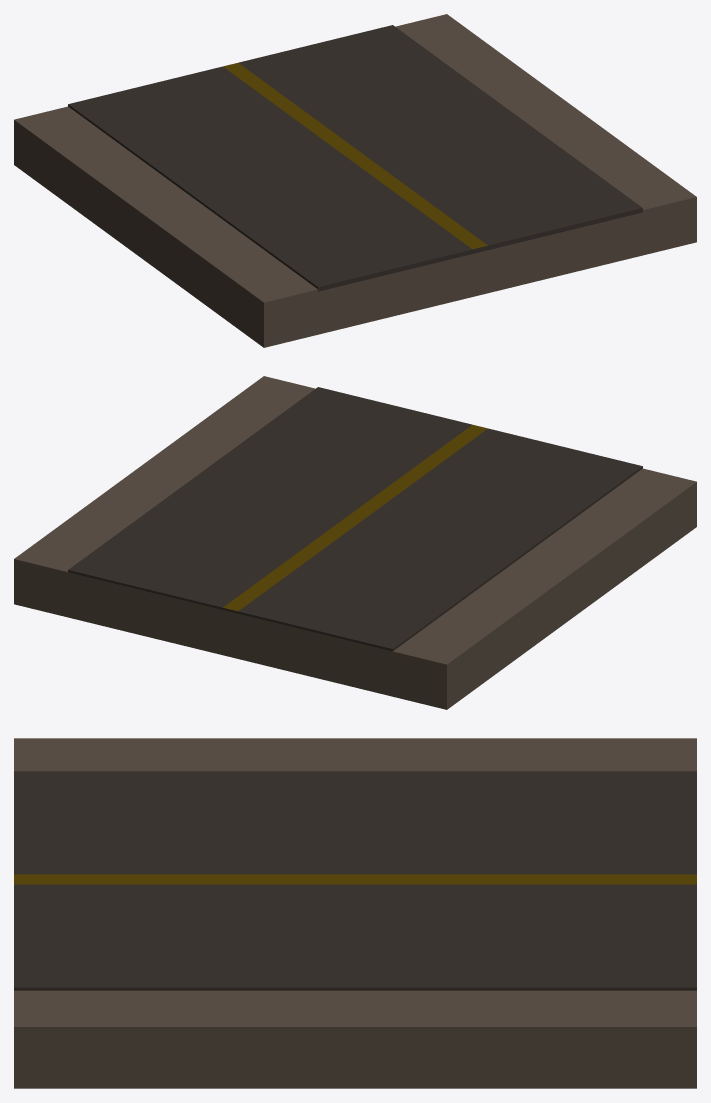
File: road-straight.glb
3 renders of one model, top to bottom at view 1: azimuth 30°, elevation 25°; view 2: azimuth 150°, elevation 25°; view 3: azimuth 270°, elevation 25°, orthographic. The views are drawn at different scales.
Parts seen in each view (by area): view 1: road-straight; view 2: road-straight; view 3: road-straight.
Boxes of the visible parts, bbox=[...] form: road-straight: bbox=[14, 14, 696, 347]; road-straight: bbox=[14, 376, 696, 709]; road-straight: bbox=[14, 738, 696, 1088].
Bounding box in the file's own units: 1 × 0.105 × 1.
